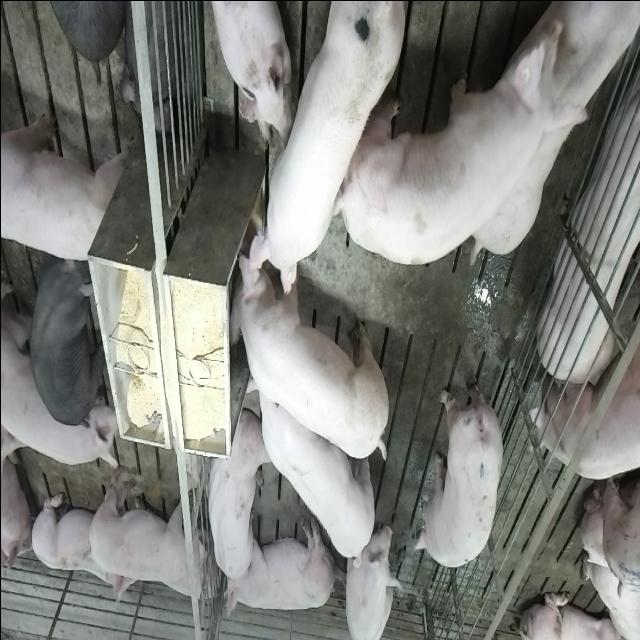Feeding: (234, 5, 402, 305), (221, 242, 386, 468)
Lateral_lying: (538, 17, 640, 396), (222, 512, 336, 618)
Sitting: (340, 516, 398, 638)
Standing: (337, 3, 519, 266), (453, 4, 636, 264), (246, 354, 379, 568), (1, 101, 130, 264), (414, 363, 503, 570), (85, 459, 217, 598), (532, 341, 640, 479)
Sternal_lying: (30, 486, 132, 610), (206, 1, 288, 142), (202, 408, 266, 582), (0, 434, 33, 580)
